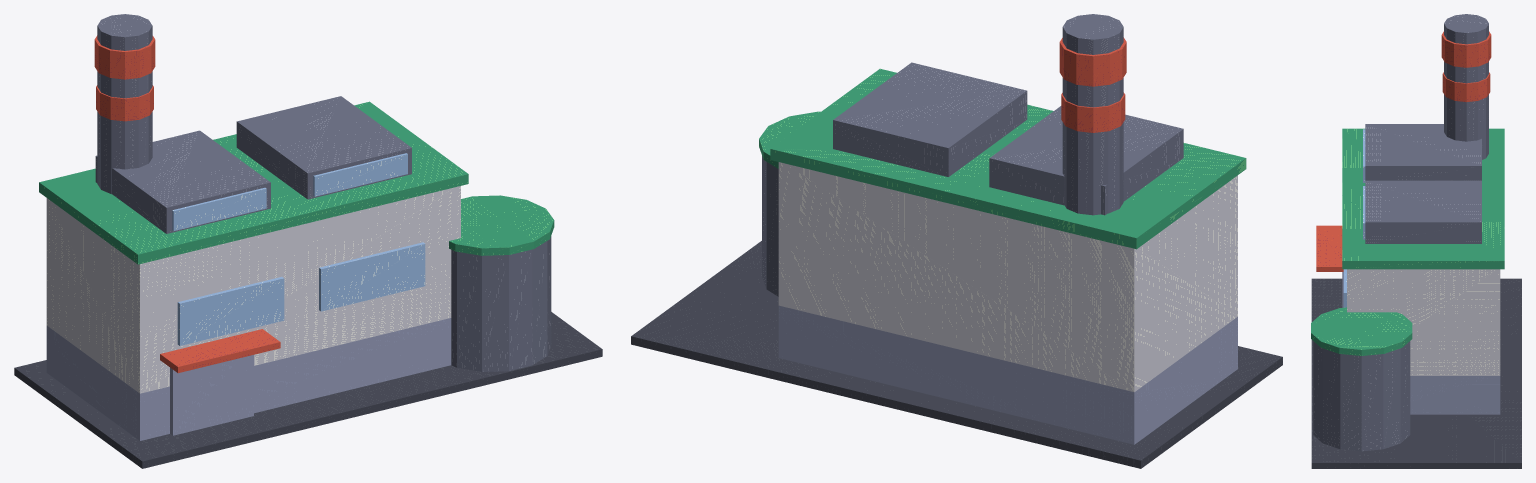
The model's file is ind-2x1-l2.glb.
3 views of the same model, side by side, from view 1: azimuth 30°, elevation 25°; view 2: azimuth 150°, elevation 25°; view 3: azimuth 270°, elevation 25° (orthographic). The views are drawn at different scales.
Parts seen in each view (by area): view 1: ind-2x1-l2; view 2: ind-2x1-l2; view 3: ind-2x1-l2.
Part boxes in pixels (x1,y1,x2,y2): ind-2x1-l2: [14, 14, 602, 468]; ind-2x1-l2: [631, 14, 1282, 468]; ind-2x1-l2: [1311, 14, 1521, 468].
Bounding box in the file's own units: 3.86 × 2.85 × 1.87.
1 material, 1 textured.
